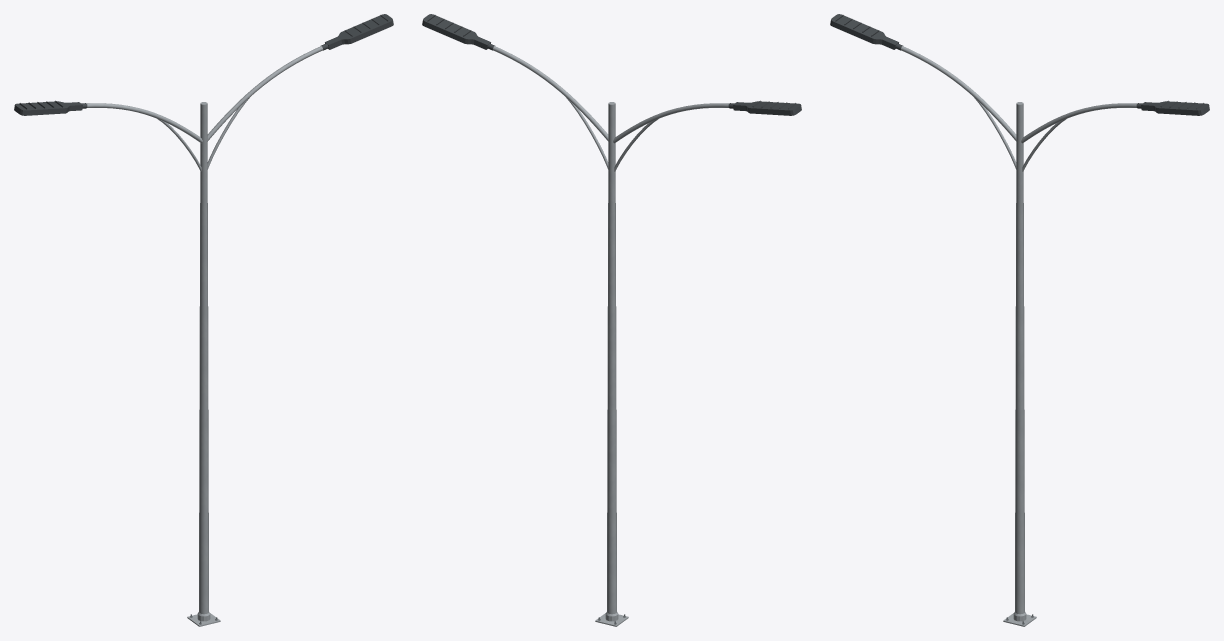
Rendered from poste_doble_led_lod1.glb.
3 views of the same model, side by side, from view 1: azimuth 30°, elevation 25°; view 2: azimuth 150°, elevation 25°; view 3: azimuth 330°, elevation 25° (orthographic).
Parts seen in each view (by area): view 1: MAT_Steel_Galvanized, MAT_Paleta; view 2: MAT_Steel_Galvanized, MAT_Paleta; view 3: MAT_Steel_Galvanized, MAT_Paleta.
Boxes of the visible parts, left/top/right/bottom form: MAT_Steel_Galvanized: left=87, top=46, right=323, bottom=626; MAT_Paleta: left=14, top=14, right=393, bottom=624; MAT_Steel_Galvanized: left=492, top=46, right=728, bottom=626; MAT_Paleta: left=422, top=14, right=801, bottom=624; MAT_Steel_Galvanized: left=900, top=46, right=1136, bottom=626; MAT_Paleta: left=830, top=14, right=1209, bottom=624.
Size of the model in its own units: 7 by 10 by 0.4.
Materials: 4 (4 with a texture image).
